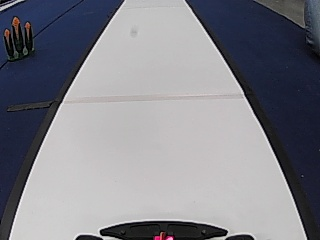corn: (1, 16, 38, 62)
